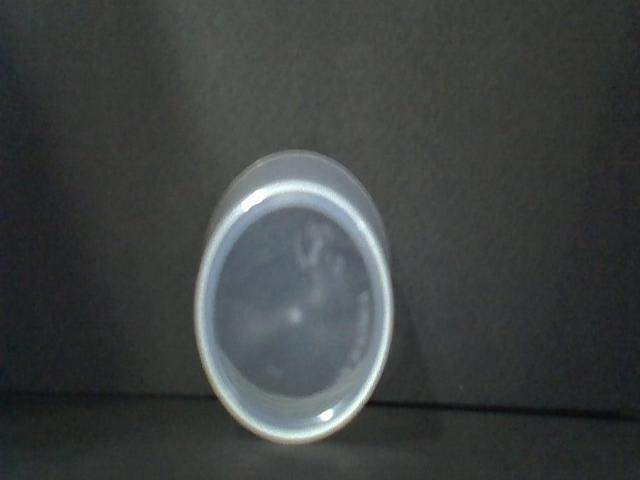cup: (199, 138, 398, 445)
